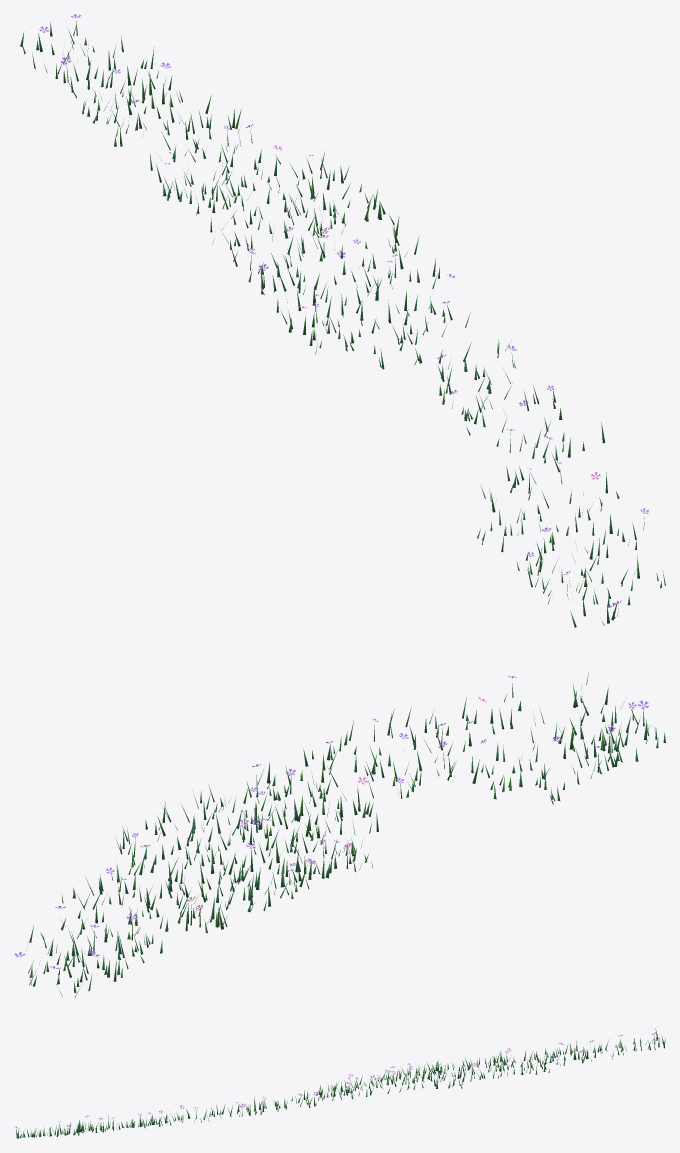
3 renders of one model, top to bottom at view 1: azimuth 30°, elevation 25°; view 2: azimuth 150°, elevation 25°; view 3: azimuth 270°, elevation 25°, orthographic. The views are drawn at different scales.
Visible parts, largest first — view 1: gc_22; view 2: gc_22; view 3: gc_22.
Part boxes in pixels (x1,y1,x2,y2): gc_22: (20,14,665,627); gc_22: (14,672,665,997); gc_22: (14,1029,665,1138).
Size of the model in its own units: 2.74 by 3.43 by 18.13.
Materials: 1 (1 with a texture image).
